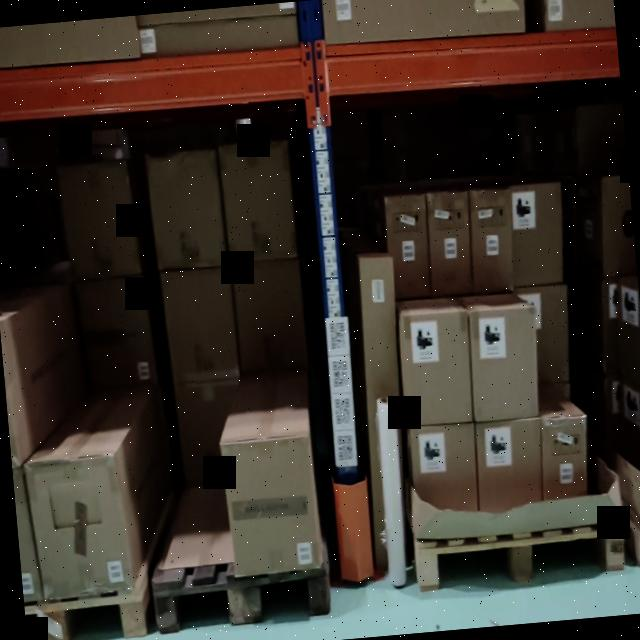box: (26, 456, 134, 599), (221, 434, 319, 572), (57, 161, 140, 277), (74, 275, 157, 390), (160, 268, 240, 381), (220, 142, 296, 260), (150, 150, 223, 267), (400, 311, 471, 425), (234, 260, 307, 368), (470, 306, 537, 419), (173, 379, 238, 489), (474, 418, 546, 509), (409, 424, 480, 508), (506, 184, 565, 283), (424, 190, 476, 294), (517, 285, 568, 384), (384, 196, 430, 296), (470, 190, 512, 294), (541, 414, 587, 496)
